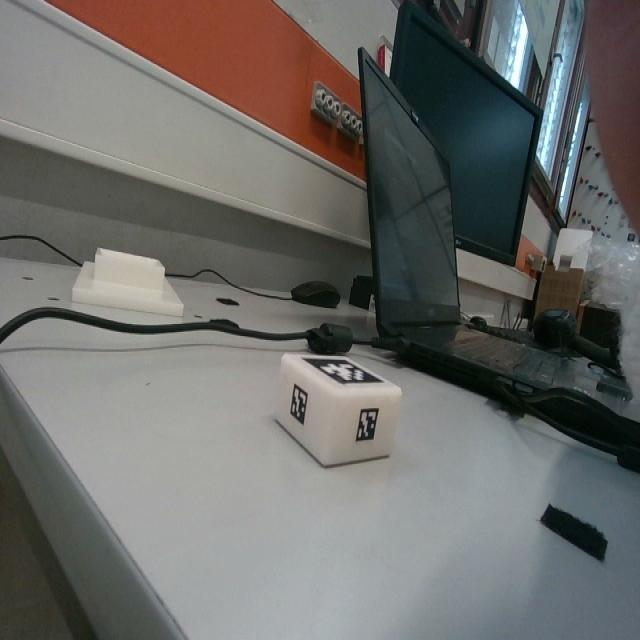Cube: (277, 350, 401, 466)
